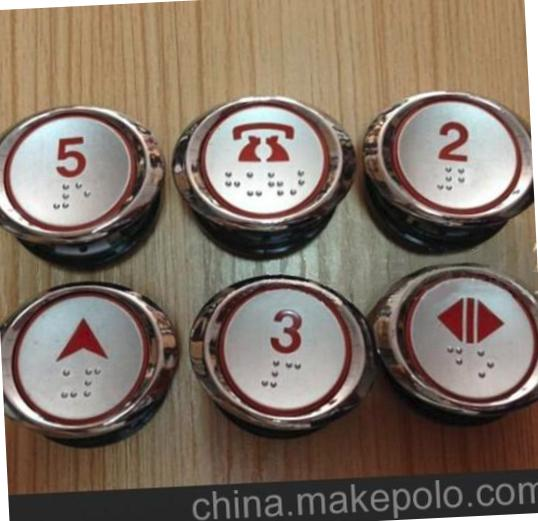Braille: (445, 344, 463, 377), (285, 359, 304, 390), (262, 357, 280, 389), (84, 367, 102, 398), (477, 348, 494, 380), (246, 169, 263, 197), (52, 183, 70, 209), (224, 169, 240, 198), (62, 369, 77, 399), (76, 181, 92, 209), (290, 169, 306, 196), (436, 166, 452, 192), (458, 167, 474, 192), (269, 171, 283, 197)
